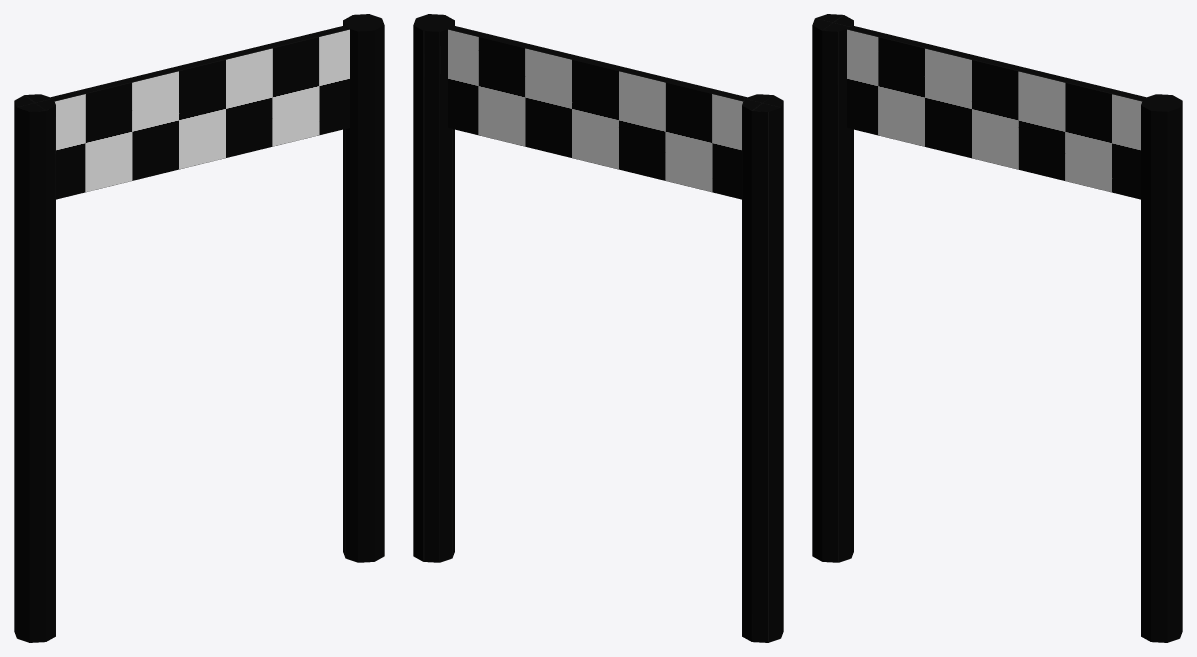
File: finish_line.fbx
3 renders of one model, left to right at view 1: azimuth 30°, elevation 25°; view 2: azimuth 150°, elevation 25°; view 3: azimuth 330°, elevation 25°, orthographic.
Parts seen in each view (by area): view 1: finish_line; view 2: finish_line; view 3: finish_line.
Part boxes in pixels (box(x1,y1,x2,y2)): finish_line: box(14, 14, 384, 642); finish_line: box(413, 14, 783, 642); finish_line: box(812, 14, 1182, 642).
Bounding box in the file's own units: 192 × 267 × 19.71.
Materials: 1 (1 with a texture image).
